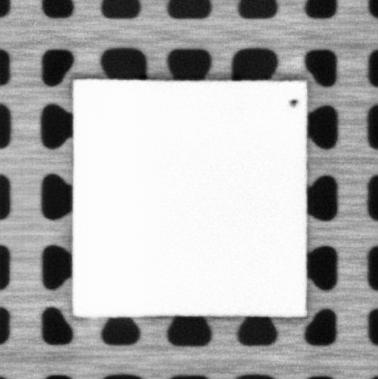DIE_INK: (287, 95, 299, 108)
